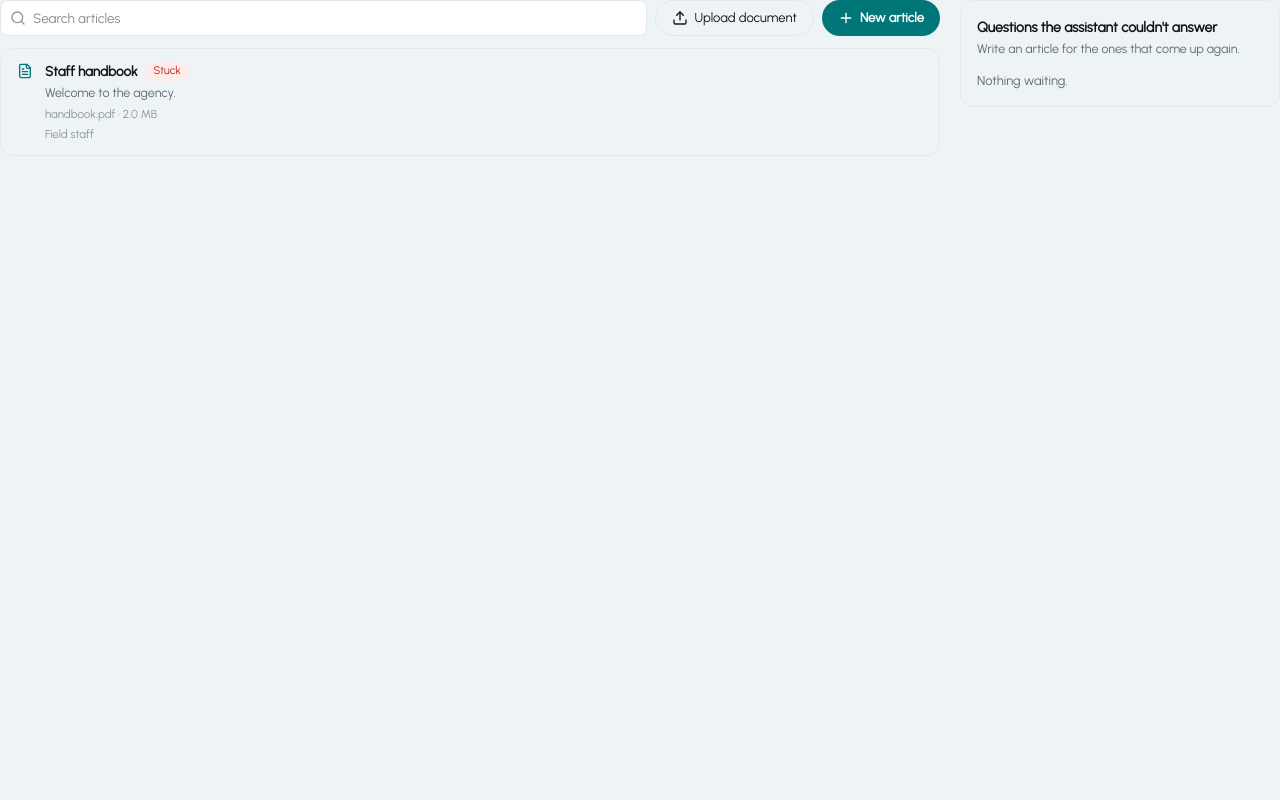
Test case: KnowledgeBasePanel documents › offers retry for a document stuck in processing
expect the text "Stuck" is shown: met, box top-left (146, 61), bottom-right (189, 82)
Click the button with aria-label "Open Staff handbook" at (91, 71), box top-left (1, 49), bottom-right (939, 155)
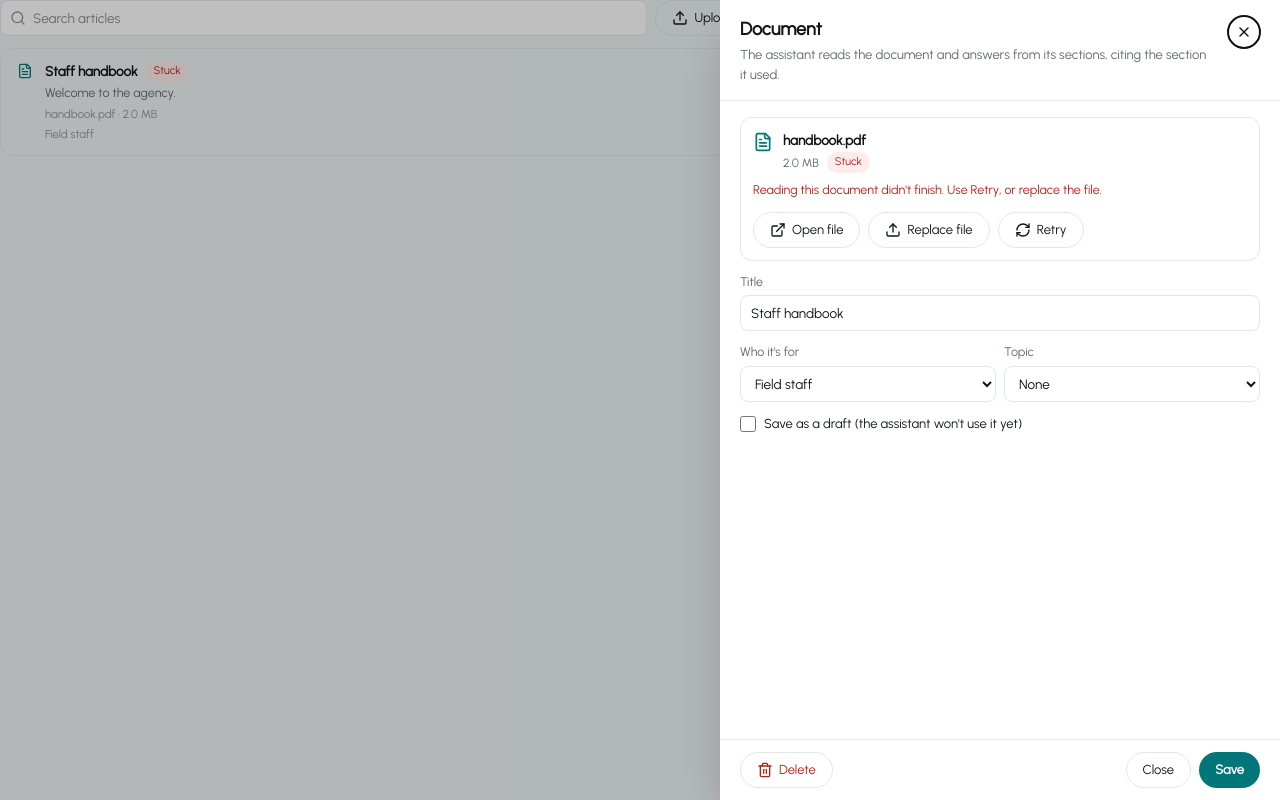
expect the button "Retry" is enabled: met, box top-left (998, 212), bottom-right (1084, 248)
expect the button "Replace file" is enabled: met, box top-left (868, 212), bottom-right (990, 248)
